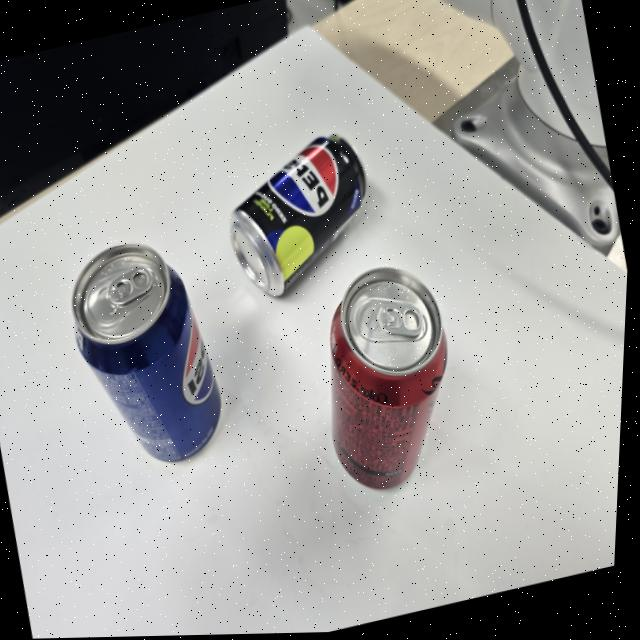can_coke_zero: (330, 267, 447, 488)
can_pepsi: (72, 243, 221, 461)
can_pepsi_zero: (230, 136, 365, 295)
